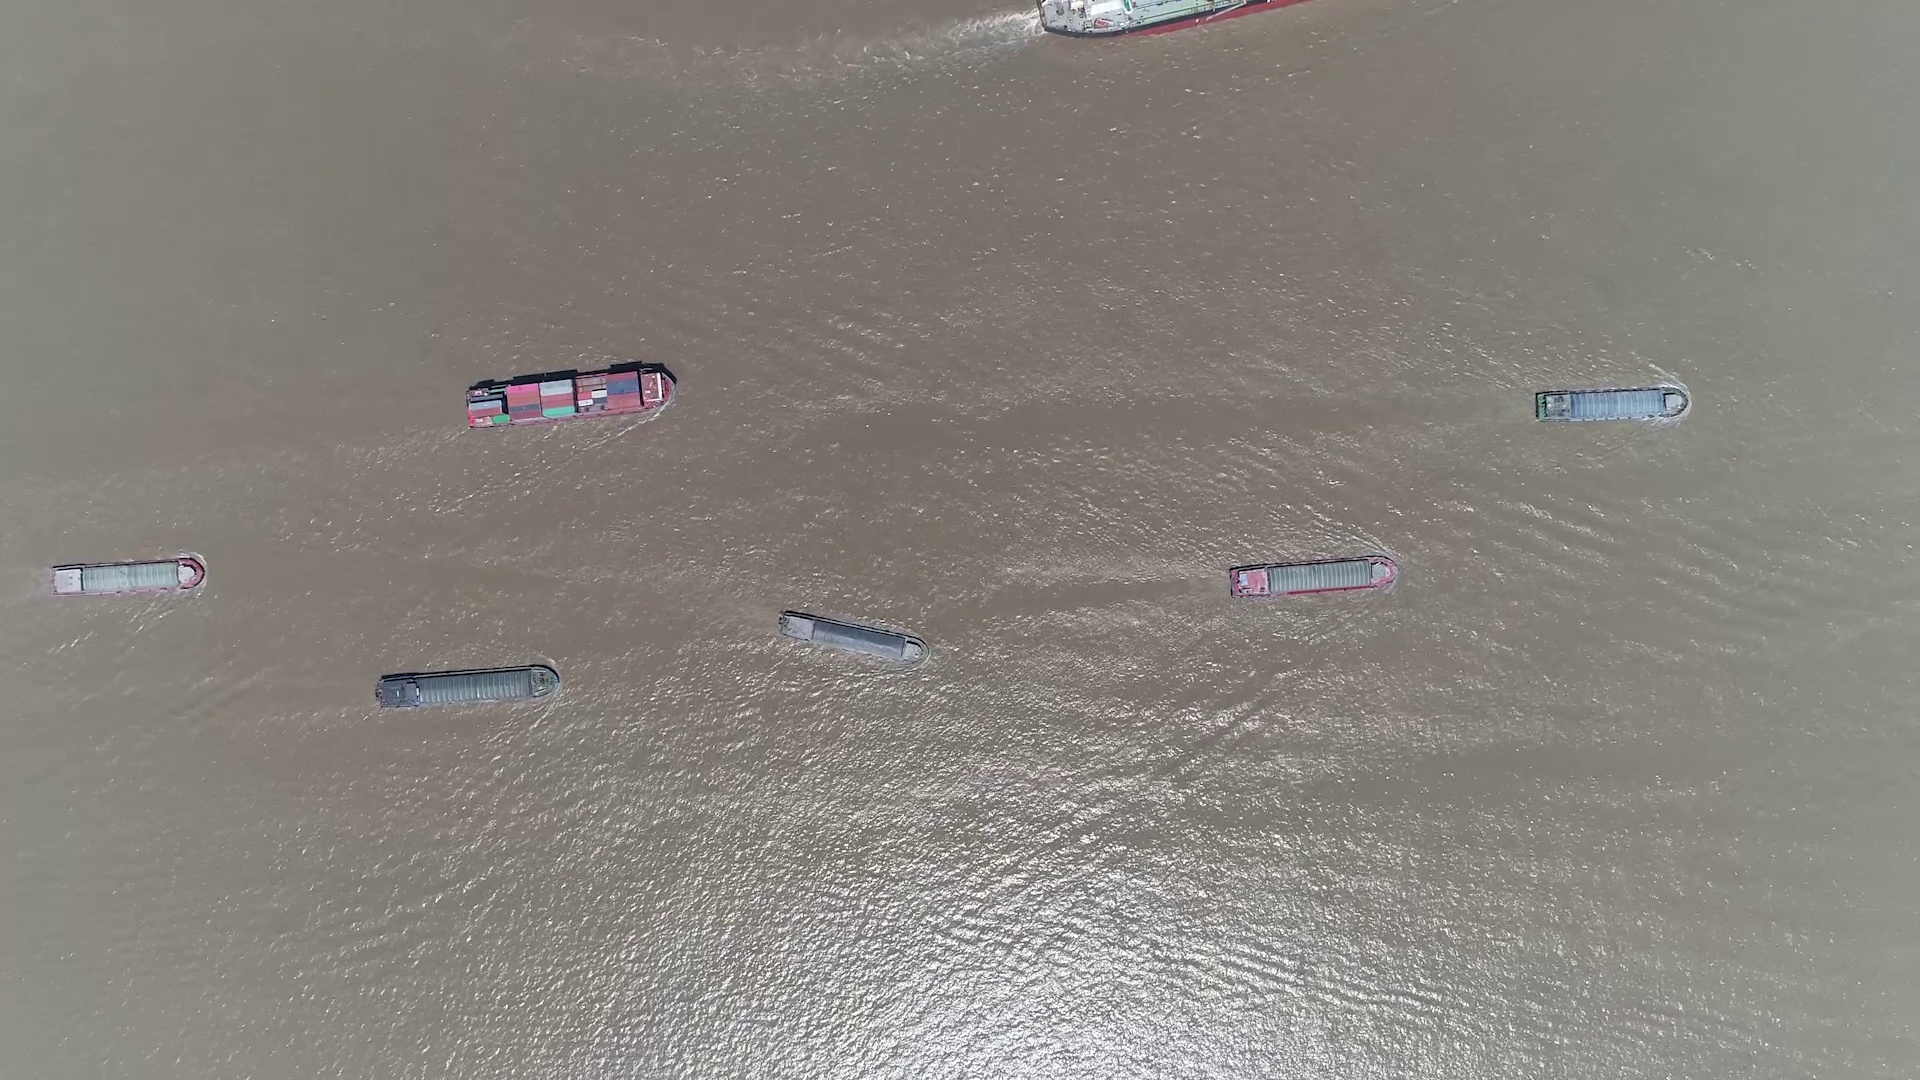ship: (465, 367, 676, 429), (1036, 3, 1312, 36), (376, 663, 559, 709), (778, 611, 928, 666), (1229, 554, 1400, 599), (50, 556, 206, 596), (1538, 388, 1687, 422)
